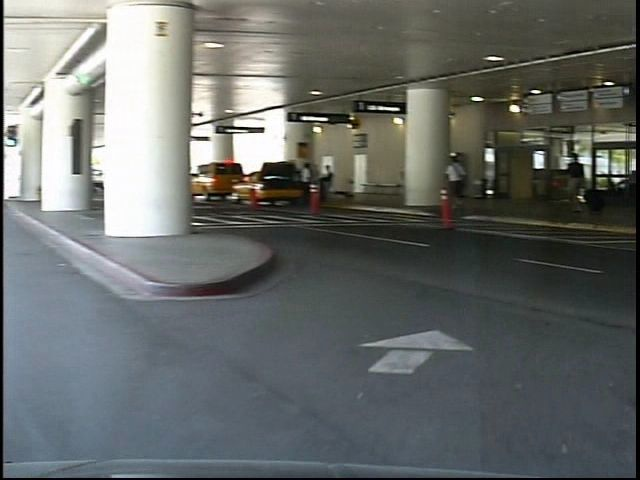person: (569, 145, 596, 221), (452, 150, 478, 215)
